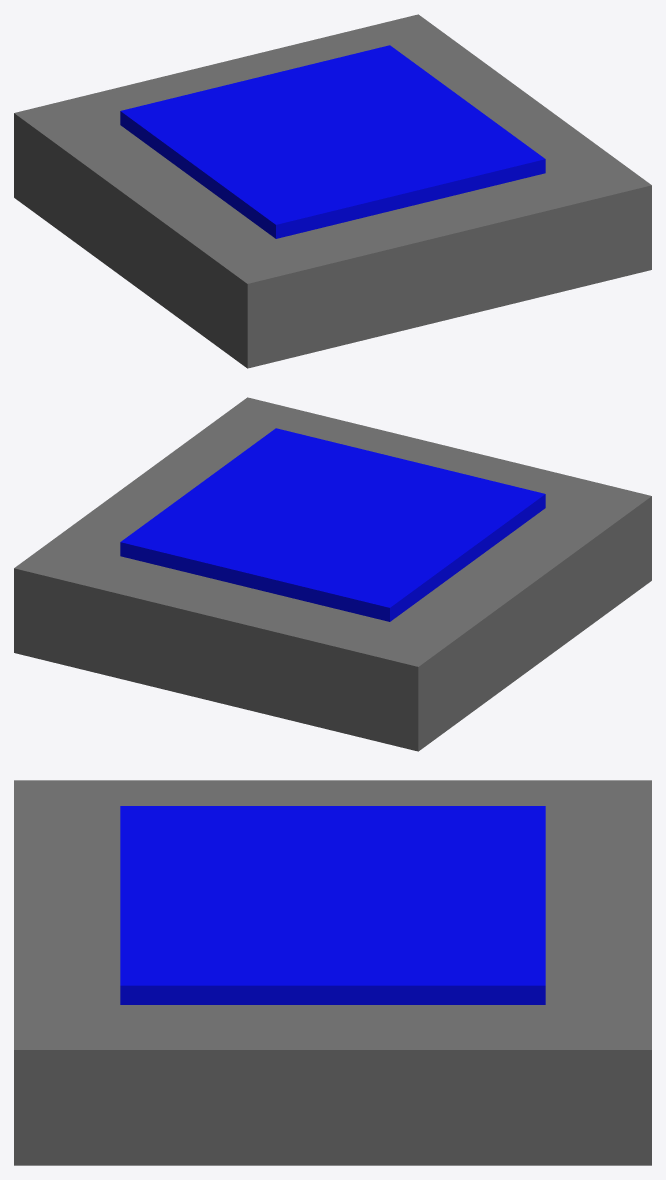
File: BlockPlate.gltf
The picture shows the model from 3 angles, top to bottom: view 1: azimuth 30°, elevation 25°; view 2: azimuth 150°, elevation 25°; view 3: azimuth 270°, elevation 25°; orthographic projection. The views are drawn at different scales.
Parts seen in each view (by area): view 1: スイッチ土台, スイッチ感圧; view 2: スイッチ土台, スイッチ感圧; view 3: スイッチ土台, スイッチ感圧.
Boxes of the visible parts, x1,y1,x2,y2 form: スイッチ土台: [14, 14, 651, 368]; スイッチ感圧: [120, 45, 545, 238]; スイッチ土台: [14, 397, 651, 751]; スイッチ感圧: [120, 428, 545, 621]; スイッチ土台: [14, 780, 651, 1165]; スイッチ感圧: [120, 806, 545, 1004].
Size of the model in its own units: 3 by 0.7 by 3.
